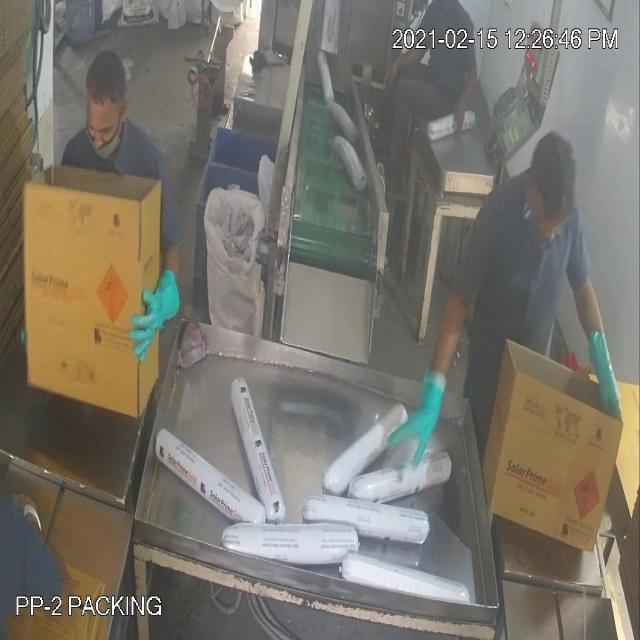Gloves: (31, 57, 600, 418)
